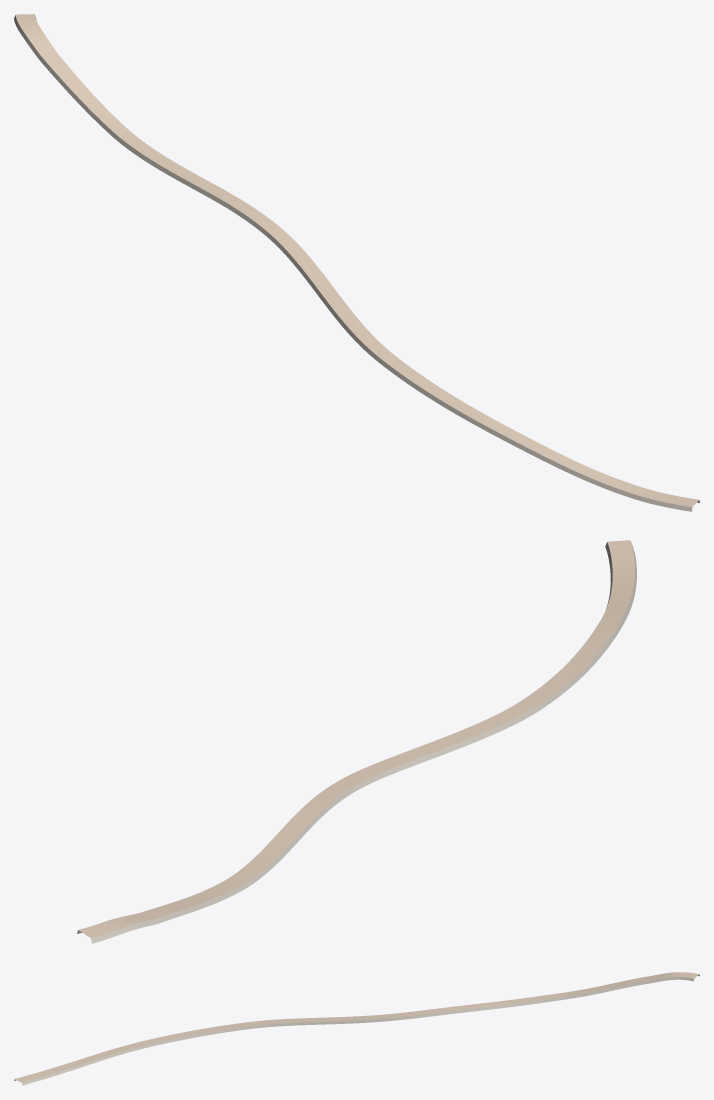
File: SM_AsirMountains_Shortcut_GoatTrack.fbx
The picture shows the model from 3 angles, top to bottom: view 1: azimuth 30°, elevation 25°; view 2: azimuth 150°, elevation 25°; view 3: azimuth 270°, elevation 25°; orthographic projection. The views are drawn at different scales.
Visible parts, largest first — view 1: SM_AsirMountains_Shortcut_GoatTrack; view 2: SM_AsirMountains_Shortcut_GoatTrack; view 3: SM_AsirMountains_Shortcut_GoatTrack.
Part boxes in pixels (x1=…): SM_AsirMountains_Shortcut_GoatTrack: x1=14, y1=14, x2=699, y2=511; SM_AsirMountains_Shortcut_GoatTrack: x1=77, y1=540, x2=636, y2=943; SM_AsirMountains_Shortcut_GoatTrack: x1=14, y1=972, x2=699, y2=1085.
Size of the model in its own units: 6303 by 4761 by 41139.
